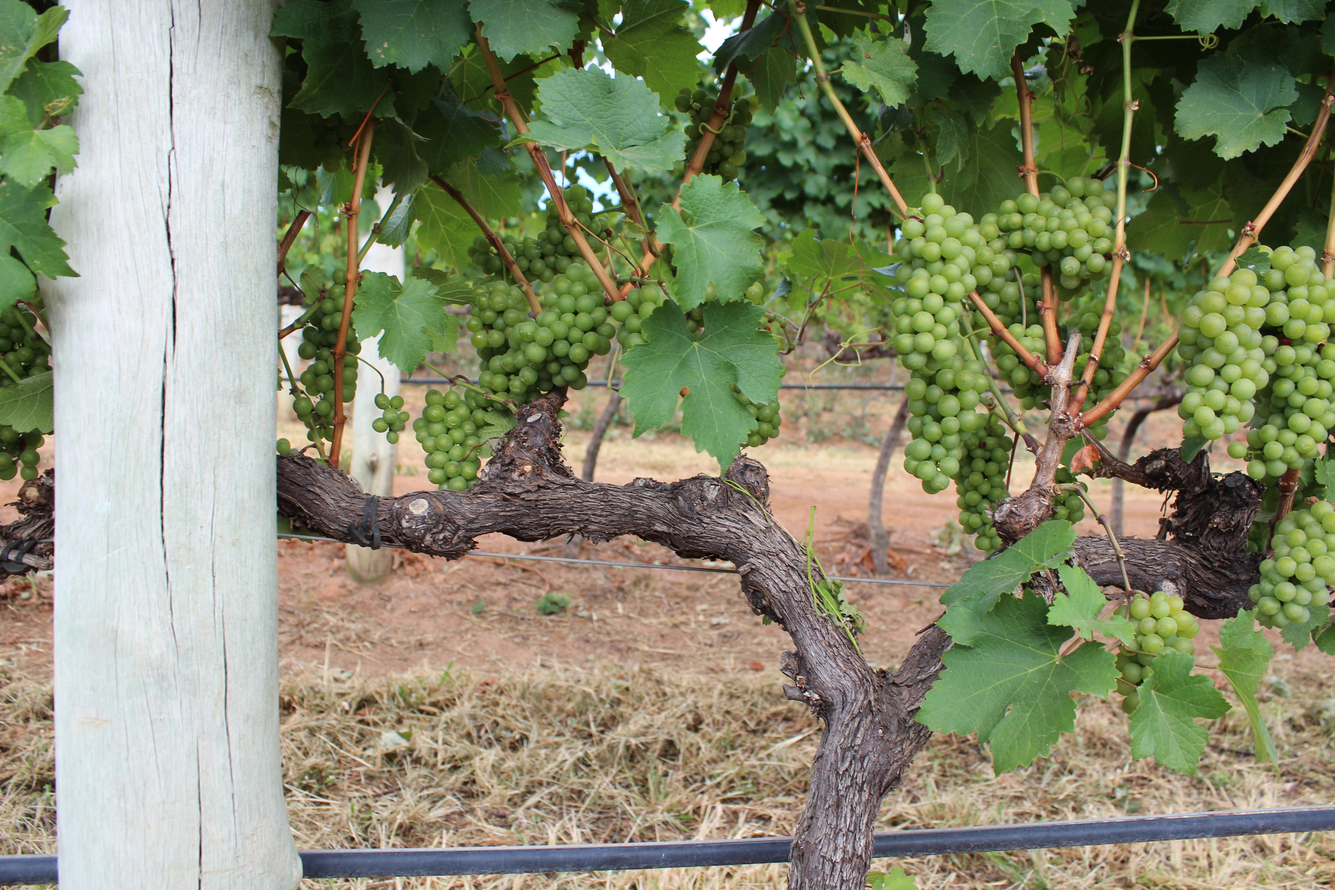leaf: (916, 593, 1117, 774), (620, 300, 782, 470), (523, 68, 685, 173), (938, 520, 1075, 644), (657, 175, 765, 311), (271, 0, 385, 116), (1175, 54, 1298, 159), (1129, 650, 1230, 774), (925, 0, 1075, 79), (353, 272, 457, 374), (601, 0, 701, 97), (1212, 611, 1276, 762), (353, 0, 472, 73), (414, 81, 501, 175), (0, 179, 76, 277), (1047, 564, 1135, 647), (469, 0, 580, 60), (0, 0, 68, 91), (413, 183, 478, 269), (840, 34, 916, 106), (445, 148, 521, 219), (8, 59, 82, 126), (0, 125, 78, 187), (783, 228, 865, 281), (0, 372, 53, 433), (1166, 0, 1257, 35), (1281, 601, 1330, 649), (0, 253, 36, 312), (377, 95, 392, 113), (763, 399, 768, 400), (748, 394, 749, 394)
